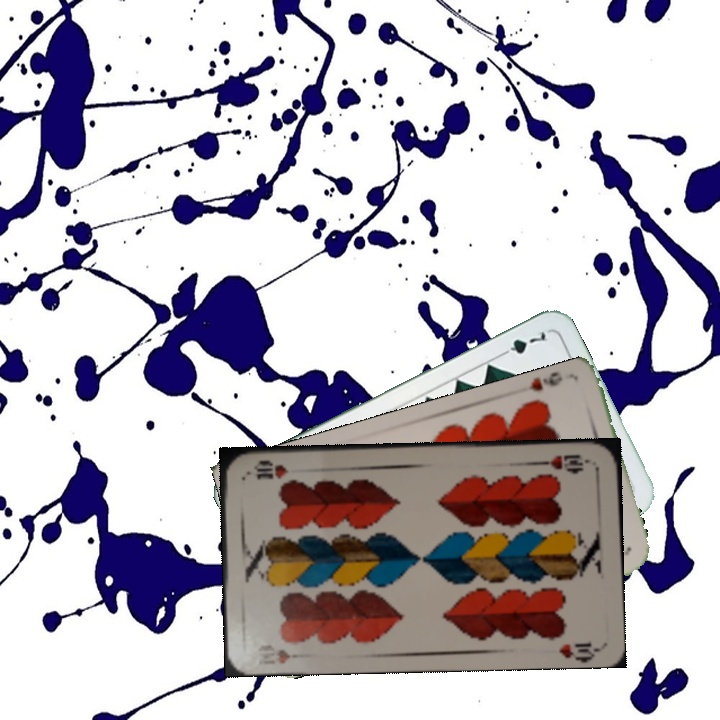G7: (495, 326, 550, 360)
H10: (254, 641, 309, 667), (535, 450, 593, 474)
H9: (516, 370, 565, 396)
